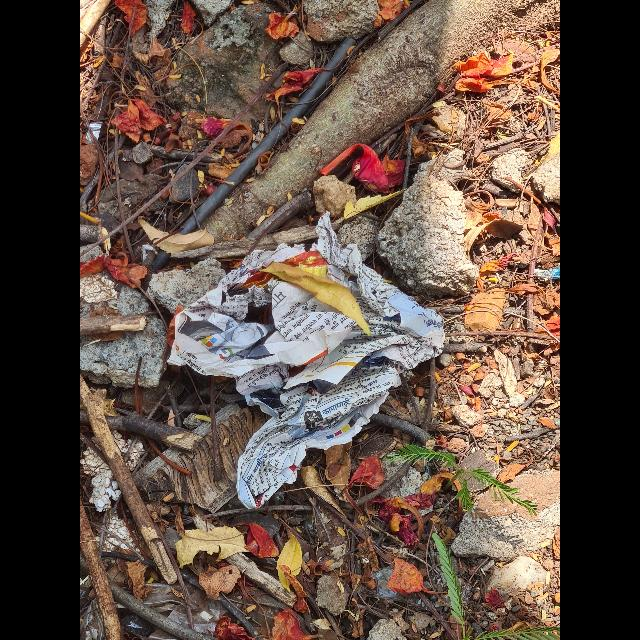trash: (167, 210, 446, 510), (236, 362, 400, 510)
